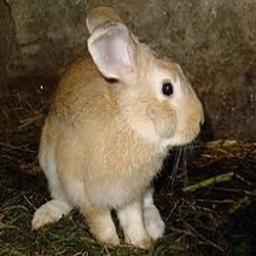rabbit: (32, 7, 204, 247)
